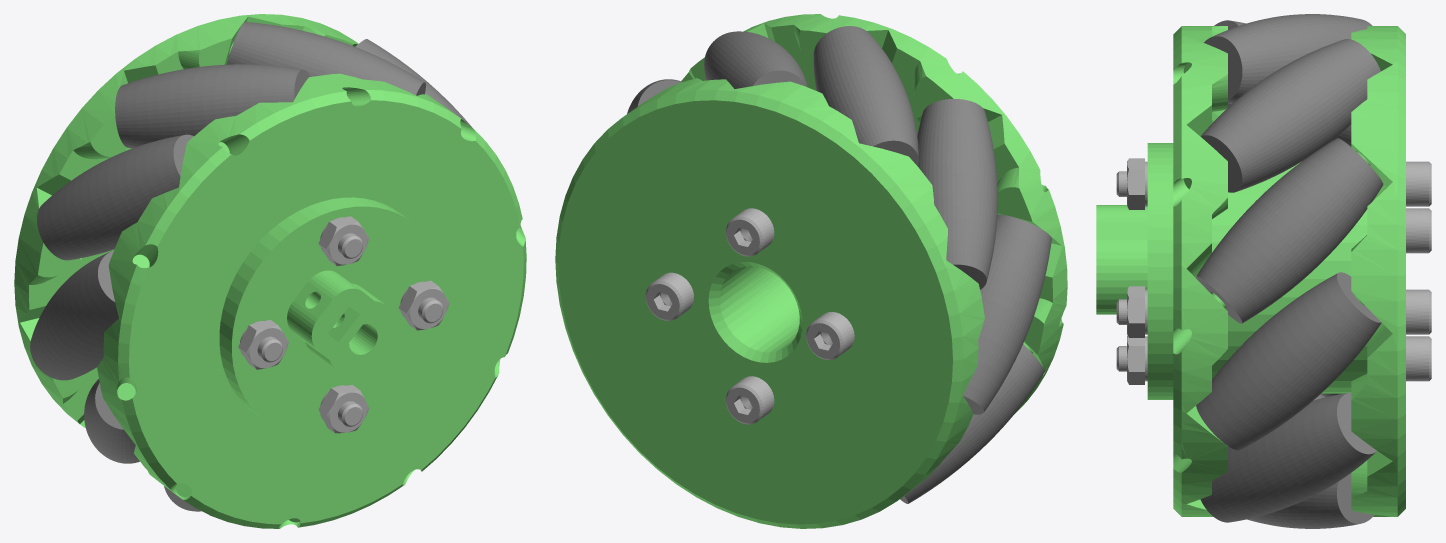
File: wheels_left_link.dae
The picture shows the model from 3 angles, left to right: view 1: azimuth 30°, elevation 25°; view 2: azimuth 150°, elevation 25°; view 3: azimuth 270°, elevation 25°; orthographic projection. The views are drawn at different scales.
Visible parts, largest first — view 1: Mecanum_Wheel_Left.012; view 2: Mecanum_Wheel_Left.012; view 3: Mecanum_Wheel_Left.012.
Boxes of the visible parts, bbox=[...] form: Mecanum_Wheel_Left.012: bbox=[14, 14, 526, 528]; Mecanum_Wheel_Left.012: bbox=[555, 14, 1067, 528]; Mecanum_Wheel_Left.012: bbox=[1096, 14, 1431, 528].
Size of the model in its own units: 8.01 by 5.22 by 7.97.
